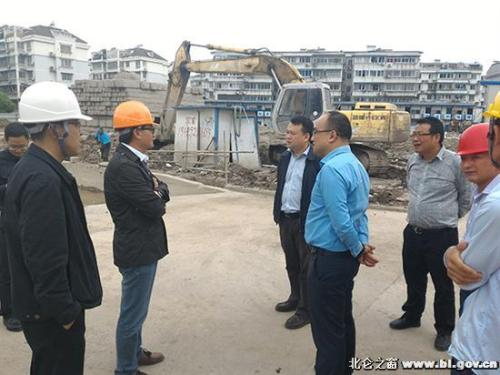boots: (136, 348, 164, 366), (389, 313, 421, 328), (285, 312, 310, 329), (434, 333, 451, 351), (274, 300, 298, 312), (2, 317, 23, 330), (114, 369, 149, 375)
gloves: (157, 181, 170, 202)
hard-hat: (17, 80, 93, 123), (112, 99, 160, 128), (455, 122, 491, 156)
person: (1, 80, 104, 375), (303, 111, 379, 375), (389, 116, 474, 351), (103, 99, 171, 374), (441, 122, 500, 375), (271, 114, 322, 329)
